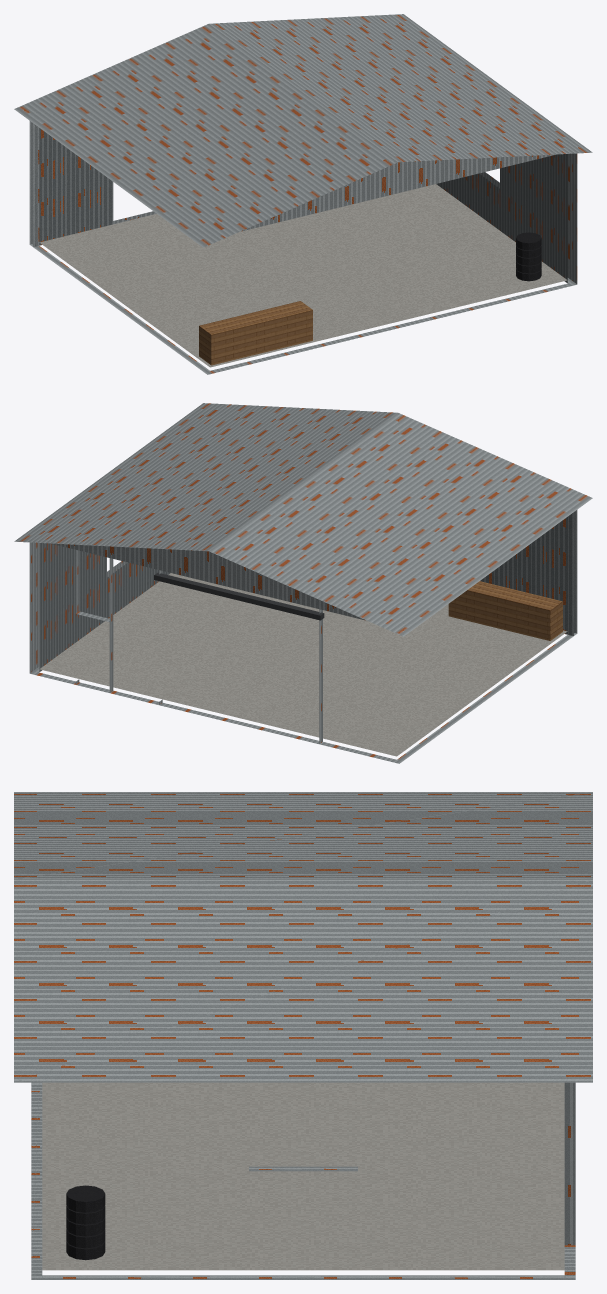
The model's file is mechanic_shed.glb.
The picture shows the model from 3 angles, top to bottom: view 1: azimuth 30°, elevation 25°; view 2: azimuth 150°, elevation 25°; view 3: azimuth 270°, elevation 25°; orthographic projection. The views are drawn at different scales.
Visible parts, largest first — view 1: mechanic_shed; view 2: mechanic_shed; view 3: mechanic_shed.
Boxes of the visible parts, x1,y1,x2,y2 form: mechanic_shed: (14,14,592,374); mechanic_shed: (14,403,592,763); mechanic_shed: (14,792,592,1279).
Bounding box in the file's own units: 12.64 × 5.32 × 10.64.
Materials: 6 (6 with a texture image).
